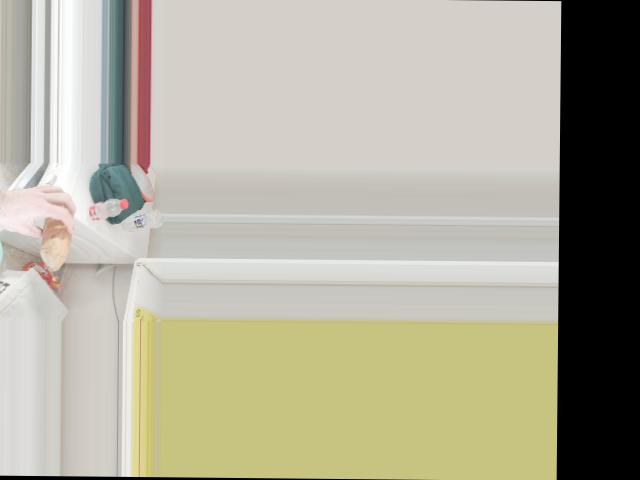sweet_potato: (33, 207, 69, 254)
